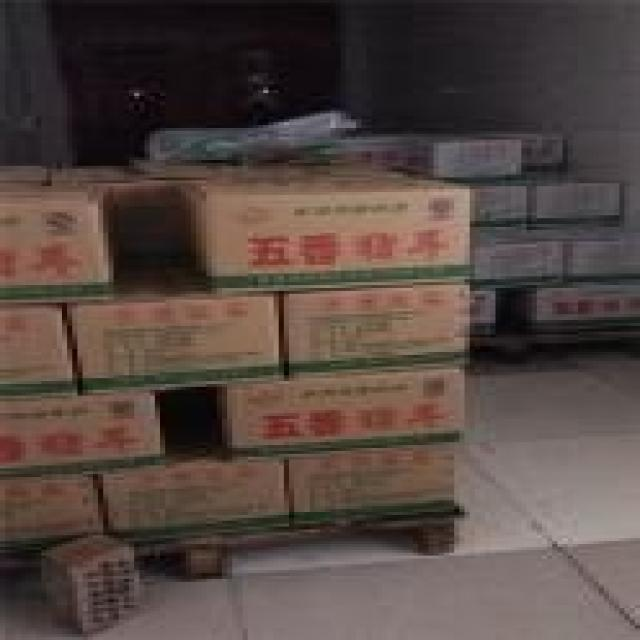box: (181, 177, 470, 291), (67, 276, 284, 396), (222, 369, 470, 457), (93, 454, 294, 547), (279, 282, 470, 378), (284, 442, 459, 529), (0, 186, 119, 303), (0, 393, 165, 477), (0, 474, 103, 559), (0, 305, 83, 399), (382, 131, 521, 177), (470, 227, 568, 291)
